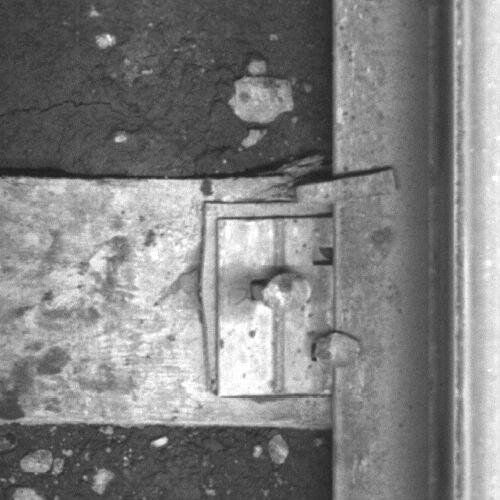crutch: (294, 167, 399, 208)
do: (216, 218, 363, 396)
hole_do: (304, 238, 345, 272)
rail: (452, 1, 500, 500)
tie_wood: (1, 178, 331, 430)
